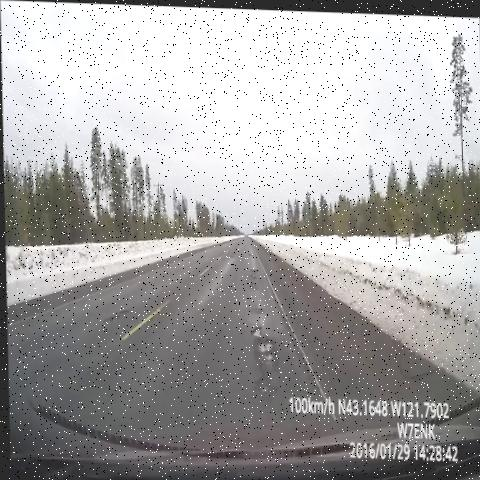pothole: (243, 311, 287, 406), (96, 301, 131, 334), (244, 259, 264, 293), (245, 299, 267, 322), (243, 245, 254, 262), (224, 245, 235, 262)
